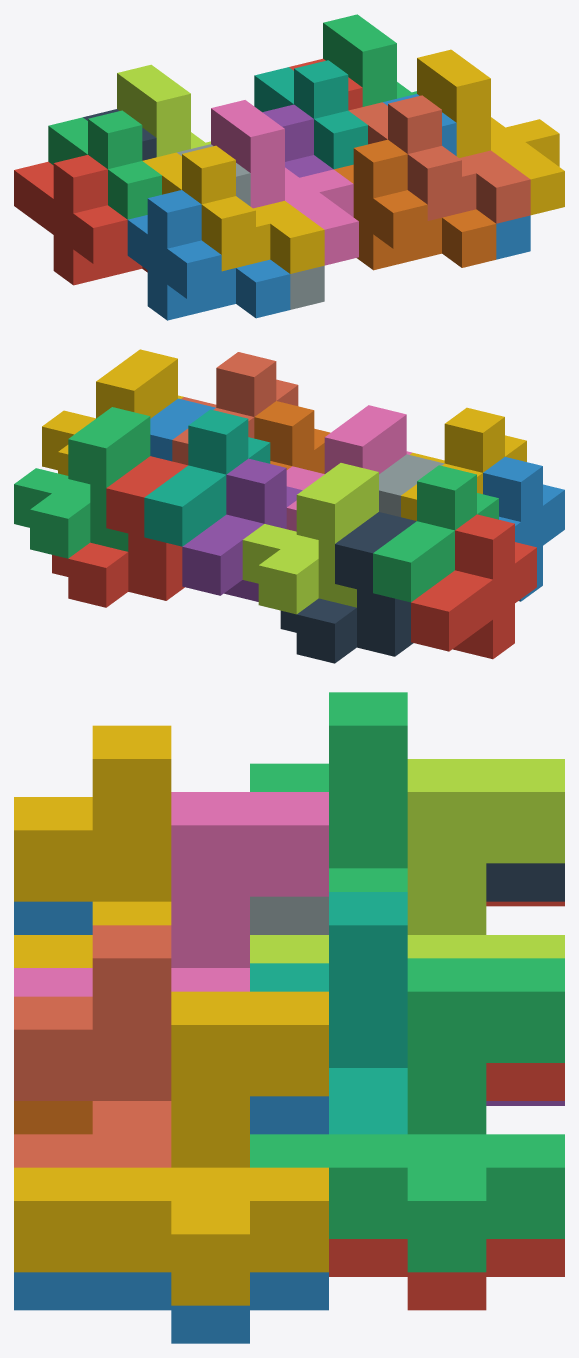
The model's file is tiling.obj.
3 renders of one model, top to bottom at view 1: azimuth 30°, elevation 25°; view 2: azimuth 150°, elevation 25°; view 3: azimuth 270°, elevation 25°, orthographic. The views are drawn at different scales.
Visible parts, largest first — view 1: copy_1_domain_2, copy_1_domain_6, copy_1_domain_4, copy_1_domain_8, copy_1_domain_1, copy_2_domain_8, copy_2_domain_4, copy_1_domain_3, copy_1_domain_7, copy_2_domain_3, copy_2_domain_7, copy_1_domain_5 (+4 smaller); view 2: copy_1_domain_1, copy_2_domain_3, copy_2_domain_7, copy_2_domain_5, copy_2_domain_1, copy_1_domain_7, copy_1_domain_3, copy_1_domain_5, copy_2_domain_8, copy_1_domain_2, copy_2_domain_4, copy_1_domain_8 (+4 smaller); view 3: copy_2_domain_8, copy_2_domain_7, copy_1_domain_8, copy_2_domain_3, copy_1_domain_4, copy_2_domain_4, copy_1_domain_7, copy_1_domain_3, copy_2_domain_6, copy_2_domain_5, copy_2_domain_1, copy_2_domain_2 (+2 smaller).
Boxes of the visible parts, x1=… form: copy_1_domain_2: x1=127, y1=190, x2=290, y2=320; copy_1_domain_6: x1=334, y1=139, x2=496, y2=270; copy_1_domain_4: x1=142, y1=145, x2=324, y2=273; copy_1_domain_8: x1=348, y1=95, x2=530, y2=223; copy_1_domain_1: x1=14, y1=155, x2=147, y2=285; copy_2_domain_8: x1=417, y1=49, x2=564, y2=215; copy_2_domain_4: x1=211, y1=100, x2=358, y2=265; copy_1_domain_3: x1=48, y1=110, x2=161, y2=219; copy_1_domain_7: x1=254, y1=60, x2=367, y2=169; copy_2_domain_3: x1=117, y1=64, x2=210, y2=156; copy_2_domain_7: x1=323, y1=14, x2=416, y2=106; copy_1_domain_5: x1=262, y1=104, x2=333, y2=177; copy_1_domain_1: x1=411, y1=514, x2=536, y2=659; copy_2_domain_3: x1=242, y1=463, x2=378, y2=614; copy_2_domain_7: x1=14, y1=407, x2=150, y2=558; copy_2_domain_5: x1=52, y1=456, x2=187, y2=607; copy_2_domain_1: x1=280, y1=512, x2=416, y2=663; copy_1_domain_7: x1=144, y1=409, x2=270, y2=546; copy_1_domain_3: x1=373, y1=465, x2=498, y2=602; copy_1_domain_5: x1=182, y1=458, x2=302, y2=601; copy_2_domain_8: x1=42, y1=349, x2=183, y2=475; copy_1_domain_2: x1=483, y1=457, x2=564, y2=601; copy_2_domain_4: x1=286, y1=405, x2=411, y2=531; copy_1_domain_8: x1=172, y1=352, x2=298, y2=465; copy_2_domain_8: x1=14, y1=991, x2=328, y2=1305; copy_2_domain_7: x1=250, y1=958, x2=564, y2=1272; copy_1_domain_8: x1=14, y1=925, x2=171, y2=1167; copy_2_domain_3: x1=250, y1=759, x2=564, y2=963; copy_1_domain_4: x1=14, y1=725, x2=171, y2=967; copy_2_domain_4: x1=14, y1=792, x2=328, y2=996; copy_1_domain_7: x1=250, y1=892, x2=407, y2=1134; copy_1_domain_3: x1=250, y1=692, x2=407, y2=891; copy_2_domain_6: x1=14, y1=1096, x2=328, y2=1343; copy_2_domain_5: x1=329, y1=1063, x2=564, y2=1310; copy_2_domain_1: x1=486, y1=863, x2=564, y2=901; copy_2_domain_2: x1=250, y1=896, x2=328, y2=934.
Size of the model in its own units: 13 by 4 by 7.
